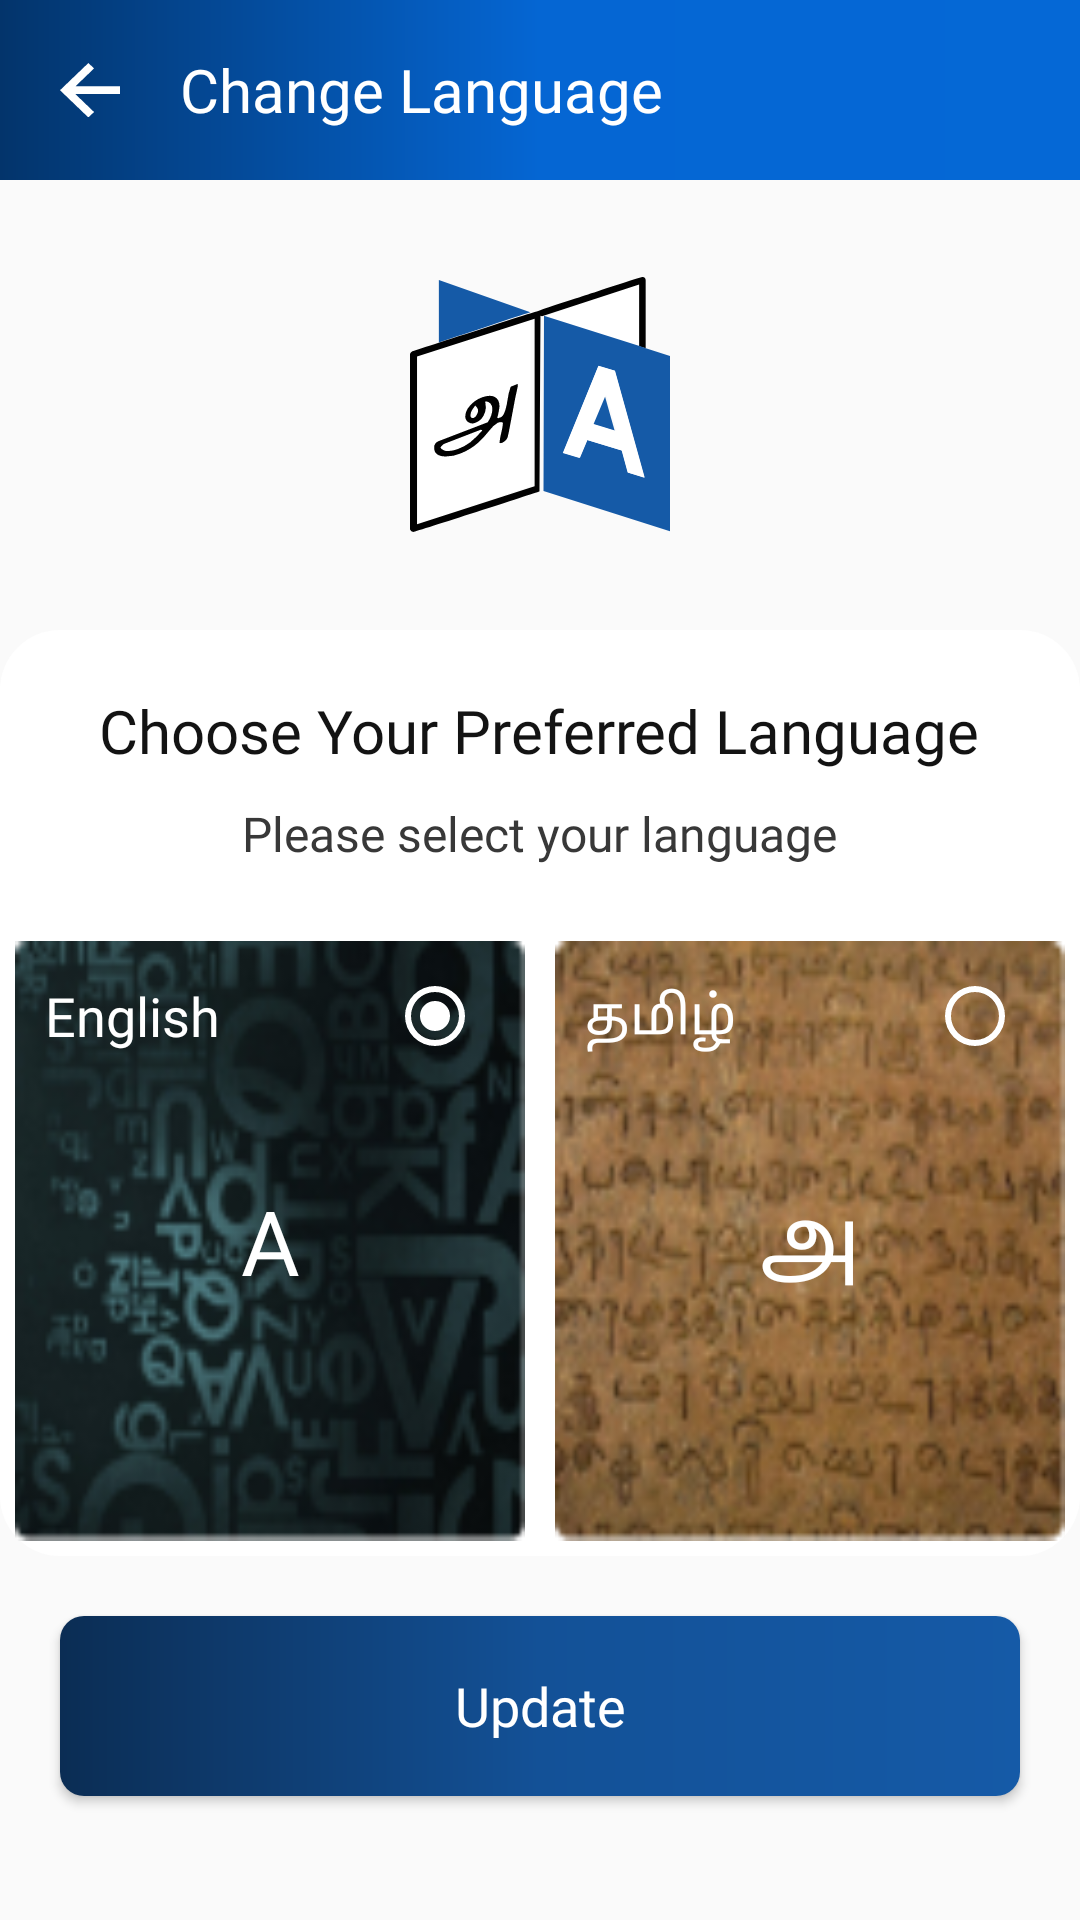

Icons on this 1080px x 1920px Android screen, each with the point to tap as point (x, y):
language check: point (435, 1016)
left arrow: point (90, 90)
